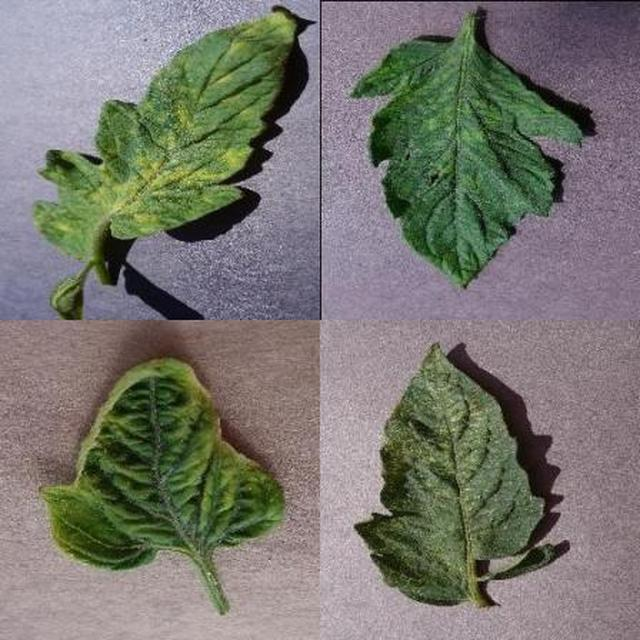Leaf Mold: (229, 190, 640, 640)
